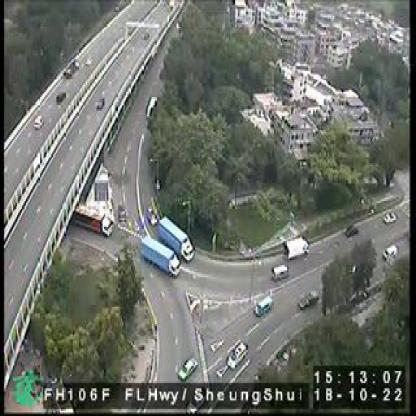Car: (185, 386, 208, 416), (177, 356, 202, 383), (227, 340, 248, 369), (253, 293, 275, 318), (300, 288, 318, 310), (271, 263, 290, 281), (382, 245, 399, 264), (116, 204, 128, 226), (344, 224, 359, 239), (33, 113, 45, 131), (384, 211, 399, 225), (96, 96, 106, 111), (56, 90, 66, 102)
Truck: (159, 215, 195, 262), (140, 235, 180, 276), (281, 237, 309, 258)
